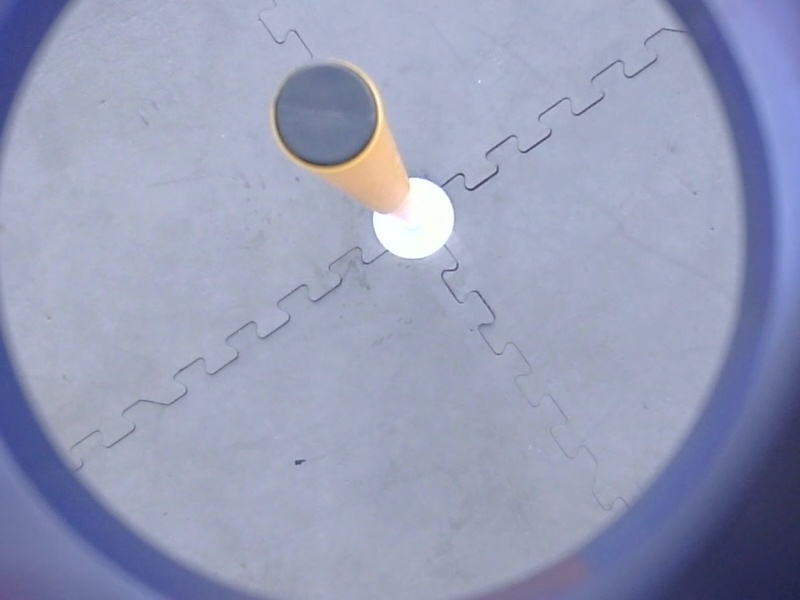tip: (263, 53, 387, 180)
